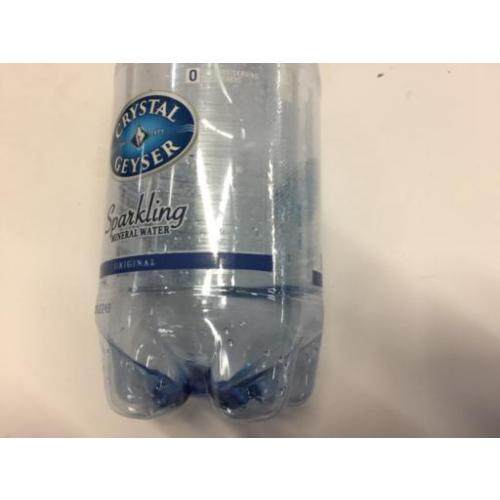plastic: (98, 64, 322, 416)
